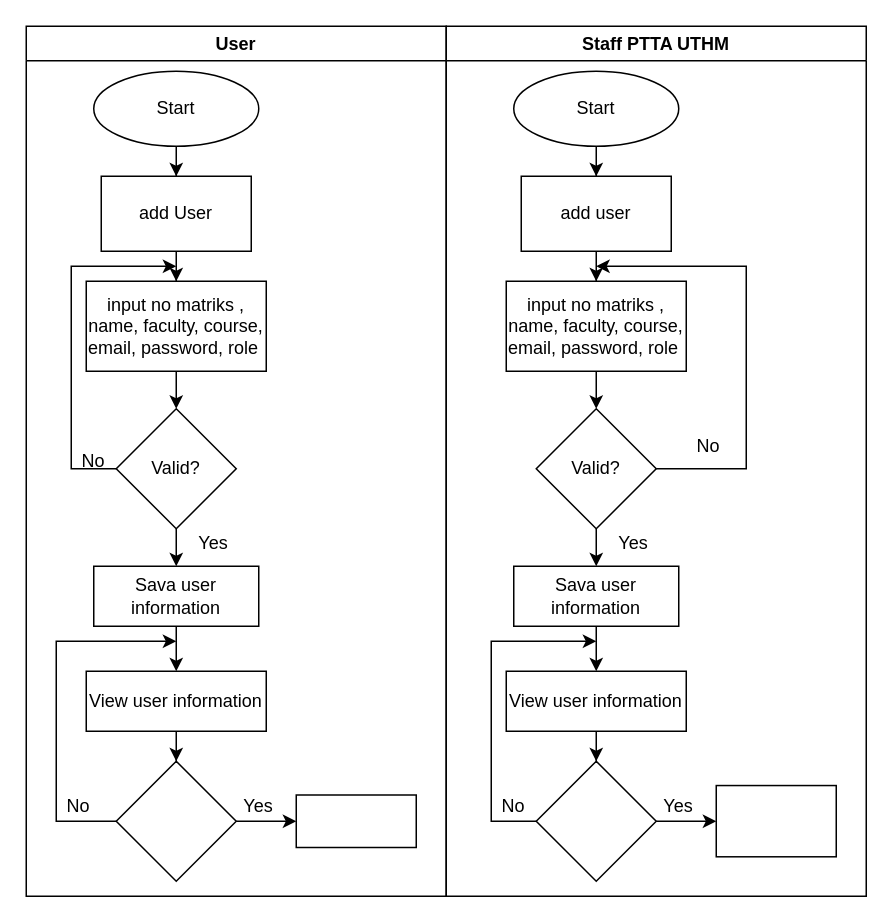
Some shapes in this 893 by 923 pixel diagram are drawn without their labels. The shapes that lost their labels are listed below. From the top down, each one's centre as x and y in pixels, then its label:
the point at 175,820: edit
the point at 355,821: edit user information
the point at 595,820: edit/delete
the point at 775,820: edit / delete user information
